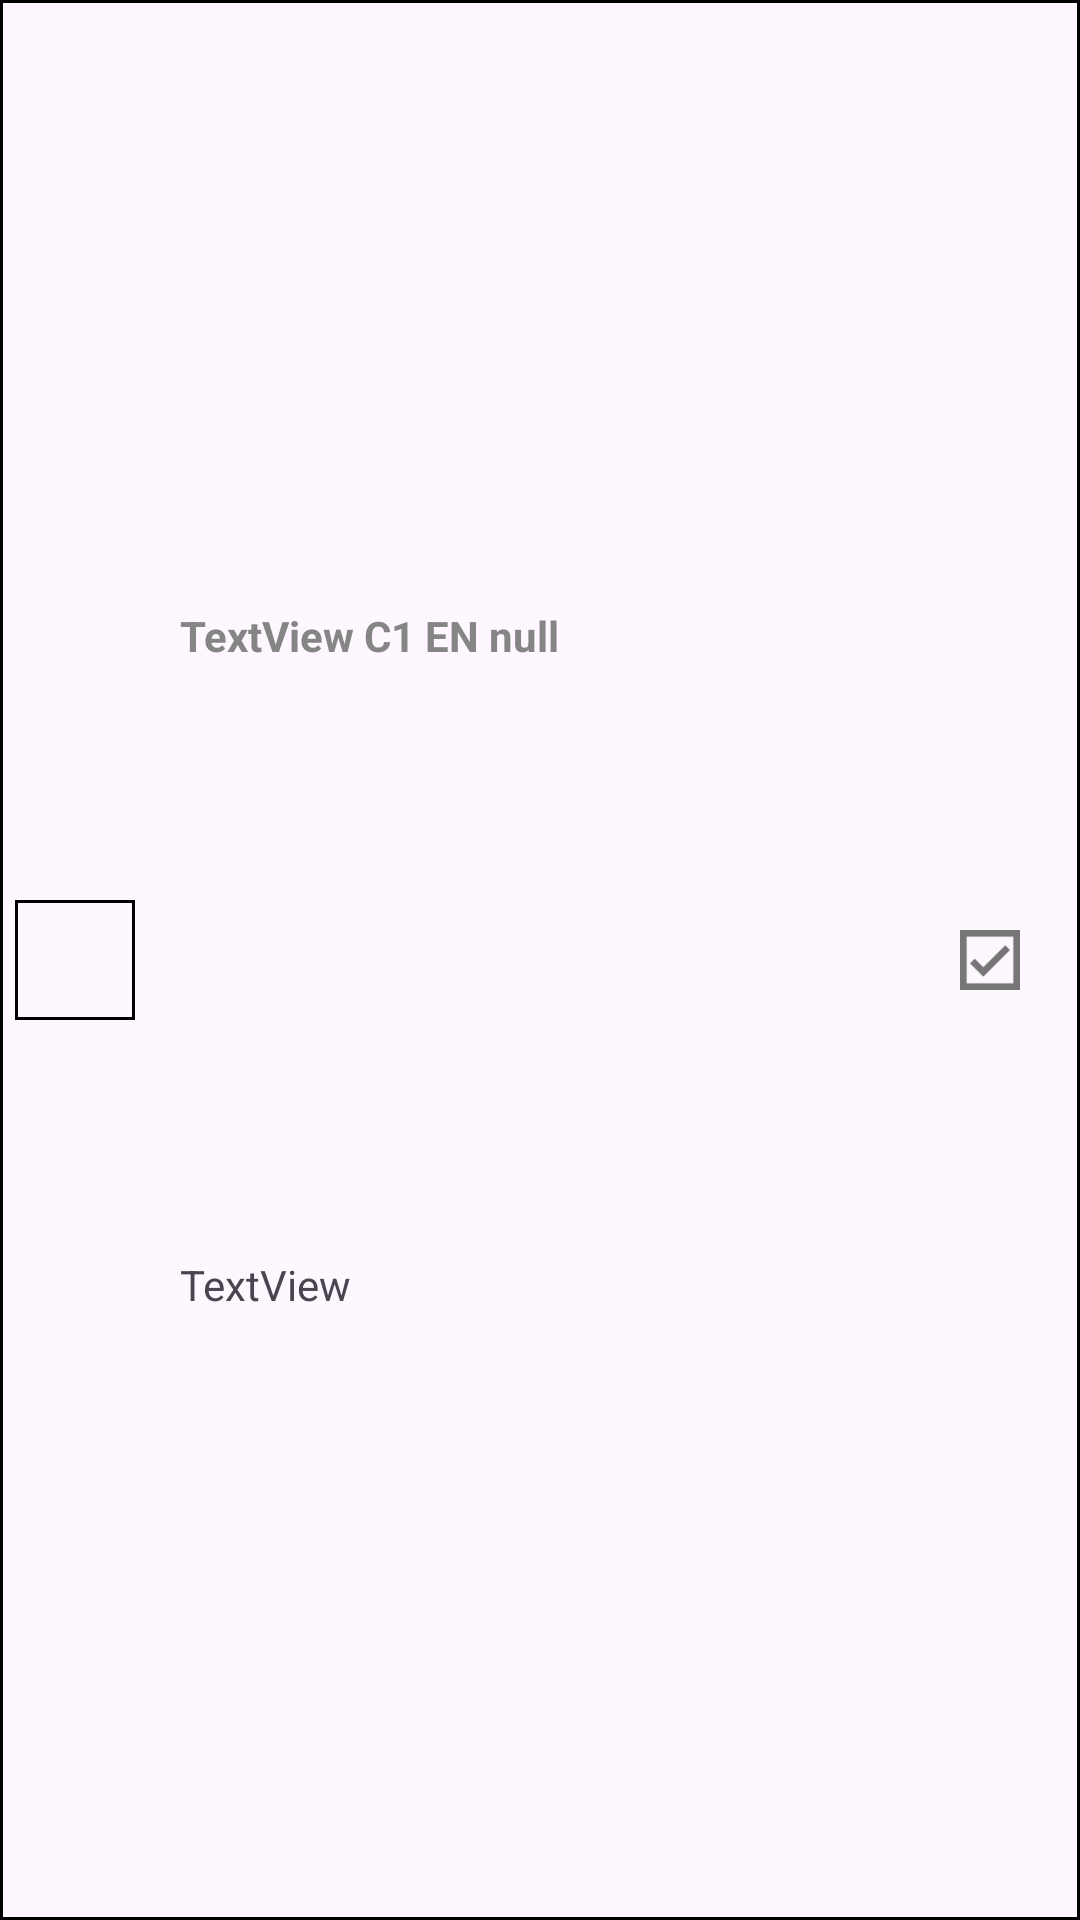

Icon click points for this 1080×1920 phone screenshot, format [x,y]:
check: [990,960]
